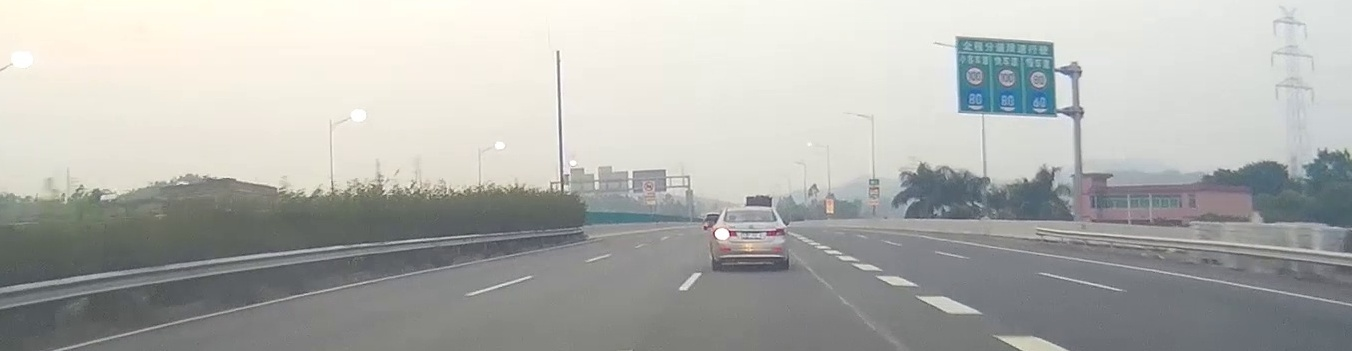L_light: (713, 229, 736, 237)
R_light: (766, 228, 785, 236)
T_light: (745, 210, 758, 214)
day-left: (711, 208, 788, 270)
